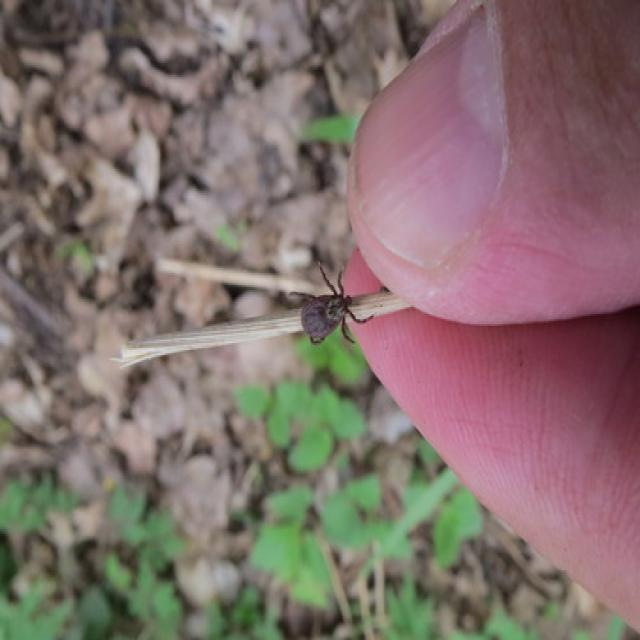Dermacentor Reticulatus-F: (300, 265, 371, 345)
